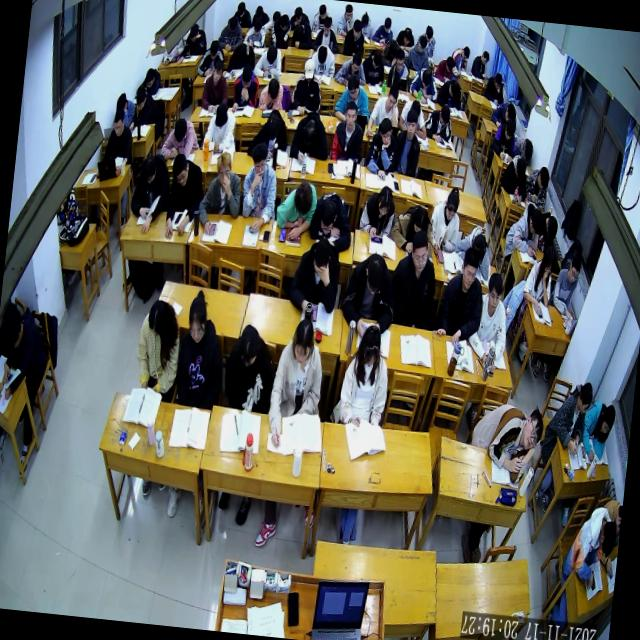bow: (468, 398, 548, 484), (272, 176, 320, 242), (308, 190, 356, 250), (388, 200, 436, 256), (245, 105, 291, 161), (502, 199, 544, 259), (451, 222, 494, 280), (290, 109, 332, 161), (158, 113, 200, 161), (408, 65, 440, 105), (397, 96, 429, 136), (252, 41, 284, 80), (257, 74, 286, 112), (226, 41, 256, 75), (436, 78, 464, 111), (135, 65, 162, 96), (291, 17, 314, 47), (394, 23, 416, 53)
down: (184, 292, 212, 346), (290, 314, 318, 366), (236, 322, 262, 371), (362, 250, 389, 297), (358, 323, 382, 368), (145, 297, 169, 341), (310, 237, 334, 278), (310, 42, 338, 76), (3, 312, 26, 353), (292, 177, 314, 216), (449, 41, 472, 78), (597, 519, 617, 556), (442, 187, 461, 224), (575, 380, 594, 416), (170, 152, 190, 186), (318, 200, 337, 234), (140, 154, 159, 186), (434, 52, 454, 82), (375, 185, 393, 218), (526, 206, 544, 239), (212, 98, 231, 128), (344, 71, 362, 101), (412, 205, 430, 235), (540, 243, 556, 276), (264, 111, 282, 140), (600, 402, 616, 433), (238, 63, 254, 90), (172, 118, 188, 144), (265, 74, 280, 100), (301, 116, 316, 142), (436, 102, 452, 126), (302, 58, 316, 84), (545, 214, 559, 240), (384, 86, 399, 110), (513, 155, 527, 180), (142, 67, 156, 91), (502, 116, 516, 140), (536, 166, 550, 190), (264, 42, 278, 65), (521, 138, 534, 162), (234, 40, 248, 62), (503, 100, 517, 122), (187, 21, 200, 44), (250, 17, 264, 38), (208, 37, 220, 61), (349, 52, 362, 73), (316, 44, 328, 66), (351, 18, 363, 40), (420, 68, 433, 88), (292, 22, 304, 42), (370, 50, 382, 70), (416, 34, 428, 54), (448, 78, 460, 98), (227, 15, 239, 34), (480, 48, 491, 68), (492, 71, 503, 91), (292, 6, 304, 24), (402, 26, 414, 44), (322, 16, 332, 37), (444, 54, 455, 73), (460, 42, 470, 62), (236, 0, 246, 19), (386, 40, 396, 59), (382, 16, 392, 34), (344, 4, 353, 22), (318, 2, 327, 18)
lookup: (520, 404, 545, 453), (459, 245, 482, 291), (408, 230, 432, 272), (250, 141, 272, 180), (485, 272, 503, 312), (214, 149, 232, 188), (110, 106, 127, 138), (342, 100, 358, 130), (378, 118, 394, 148), (567, 256, 582, 285), (134, 85, 148, 114), (404, 109, 418, 137), (392, 46, 407, 72), (210, 59, 224, 85)
sit: (264, 314, 328, 452), (170, 288, 230, 410), (336, 321, 395, 430), (432, 243, 488, 349), (337, 247, 401, 338), (386, 225, 441, 329), (130, 295, 184, 399), (220, 322, 278, 414), (0, 306, 52, 406), (560, 502, 618, 590), (286, 234, 345, 320), (465, 266, 513, 369), (194, 148, 247, 238), (237, 138, 282, 236), (542, 376, 594, 456), (161, 152, 207, 242), (126, 151, 172, 235), (426, 182, 464, 259), (520, 240, 557, 319), (100, 105, 136, 177), (329, 98, 367, 165), (357, 181, 398, 241), (363, 113, 399, 181), (580, 398, 617, 462), (391, 105, 424, 176), (200, 98, 240, 155), (332, 70, 373, 124), (550, 252, 582, 320), (364, 82, 401, 140), (290, 56, 325, 116), (200, 56, 232, 114), (228, 62, 262, 115), (498, 152, 530, 206), (128, 84, 162, 132), (176, 21, 209, 68), (490, 115, 520, 162), (332, 50, 368, 88), (384, 46, 412, 93), (424, 101, 456, 142), (196, 36, 227, 78), (524, 162, 552, 208), (216, 12, 244, 52), (312, 15, 340, 54), (341, 17, 367, 59), (404, 32, 430, 73), (360, 48, 388, 86), (268, 11, 292, 48), (241, 15, 267, 49), (483, 69, 508, 104), (490, 99, 518, 130), (310, 2, 337, 34), (380, 34, 406, 66), (469, 46, 492, 80), (372, 13, 396, 44), (336, 2, 357, 36), (289, 2, 313, 30), (231, 0, 253, 27)
